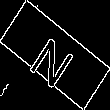N_NE: (28, 23, 82, 87)
